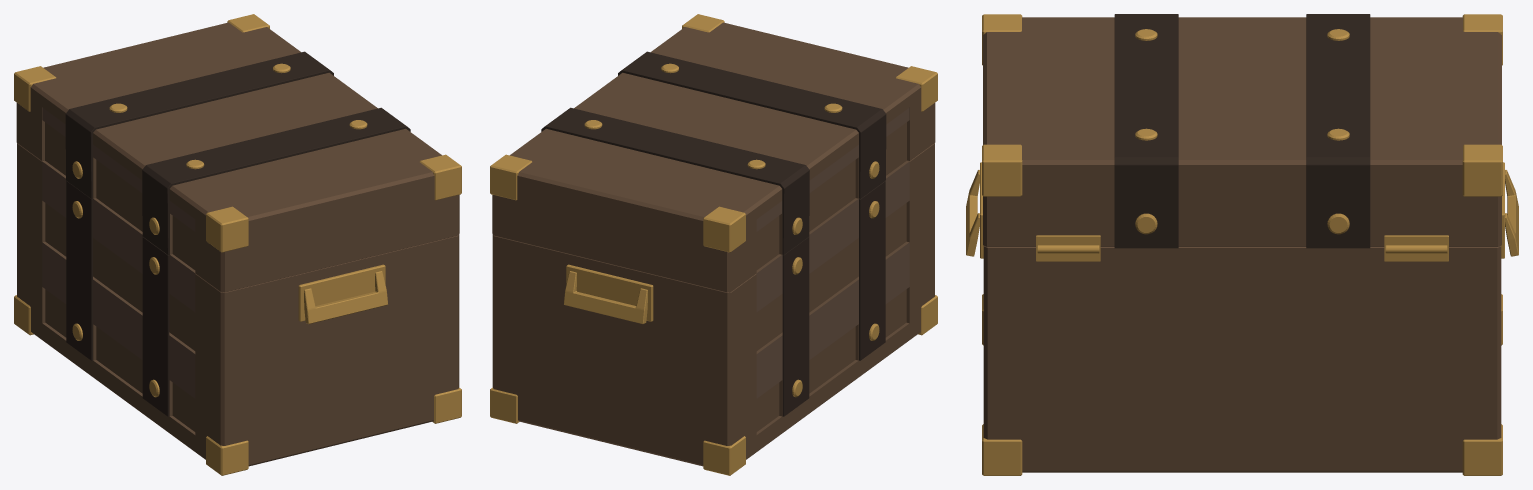
The picture shows the model from 3 angles, left to right: view 1: azimuth 30°, elevation 25°; view 2: azimuth 150°, elevation 25°; view 3: azimuth 270°, elevation 25°; orthographic projection. The views are drawn at different scales.
Visible parts, largest first — view 1: Bottom, Top; view 2: Bottom, Top; view 3: Top, Bottom.
Part boxes in pixels (x1,y1,x2,y2): Bottom: (14,143,461,475); Top: (14,14,461,292); Bottom: (490,143,937,475); Top: (490,14,937,292); Top: (982,14,1502,253); Bottom: (966,162,1518,475).
Size of the model in its own units: 416 by 410 by 641.
